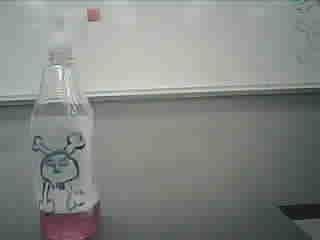hazard: (25, 6, 109, 240)
